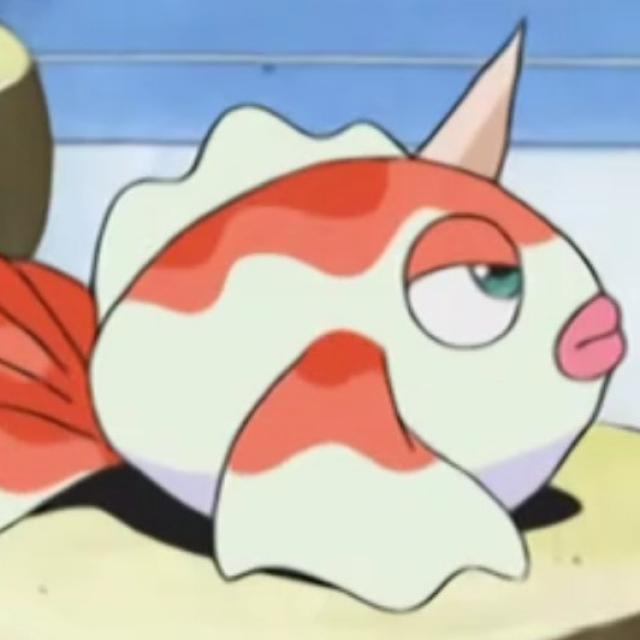Goldeen: (0, 14, 640, 608)
